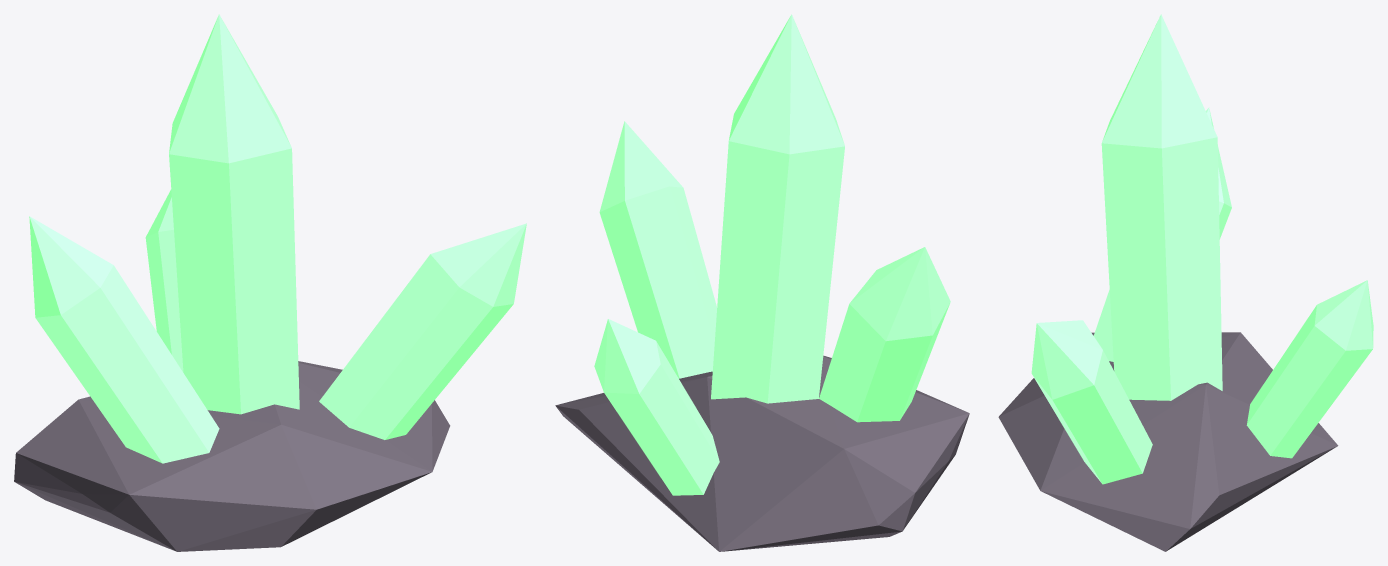
File: Crystal_ClusterSmall_Green.glb
3 views of the same model, side by side, from view 1: azimuth 30°, elevation 25°; view 2: azimuth 150°, elevation 25°; view 3: azimuth 270°, elevation 25° (orthographic). The views are drawn at different scales.
Visible parts, largest first — view 1: Crystal_ClusterSmall_green; view 2: Crystal_ClusterSmall_green; view 3: Crystal_ClusterSmall_green.
Part boxes in pixels (x1,y1,x2,y2): Crystal_ClusterSmall_green: [14, 14, 526, 551]; Crystal_ClusterSmall_green: [555, 14, 969, 551]; Crystal_ClusterSmall_green: [998, 14, 1373, 551].
Bounding box in the file's own units: 0.5883 × 0.6701 × 0.512.
